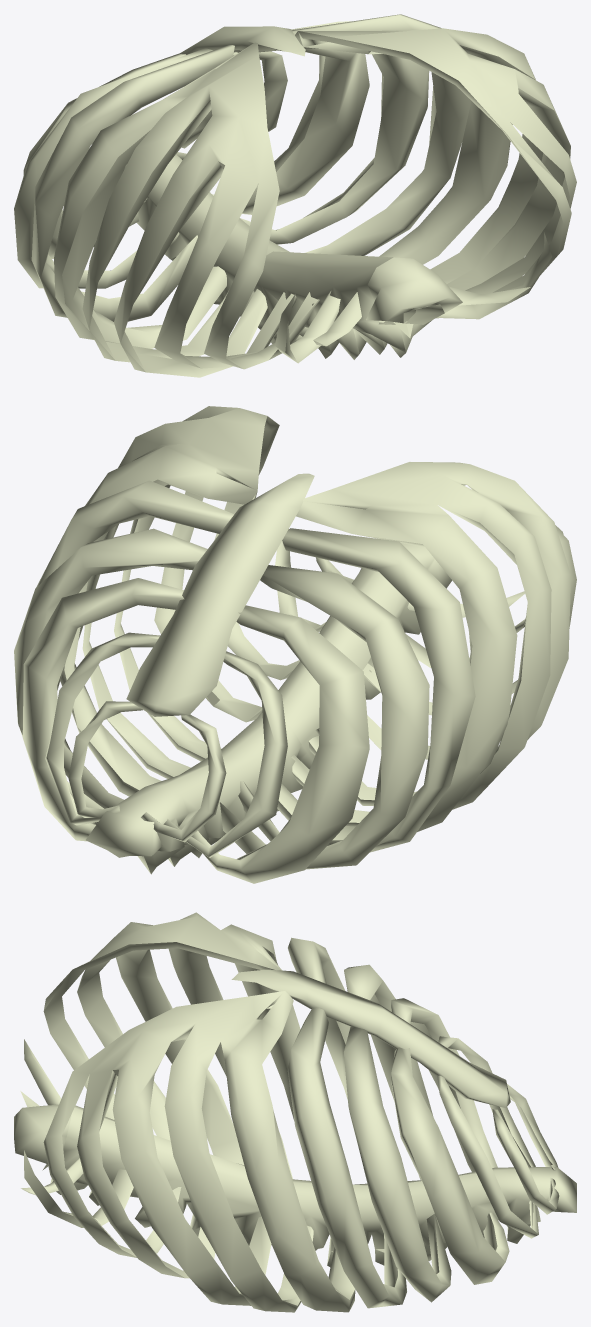
File: T_rib_1.fbx
3 renders of one model, top to bottom at view 1: azimuth 30°, elevation 25°; view 2: azimuth 150°, elevation 25°; view 3: azimuth 270°, elevation 25°, orthographic. The views are drawn at different scales.
Visible parts, largest first — view 1: Cylinder; view 2: Cylinder; view 3: Cylinder.
Boxes of the visible parts, x1=… form: Cylinder: x1=14, y1=14, x2=576, y2=377; Cylinder: x1=14, y1=406, x2=576, y2=883; Cylinder: x1=14, y1=912, x2=576, y2=1312.
Size of the model in its own units: 9332 by 6393 by 10799.
